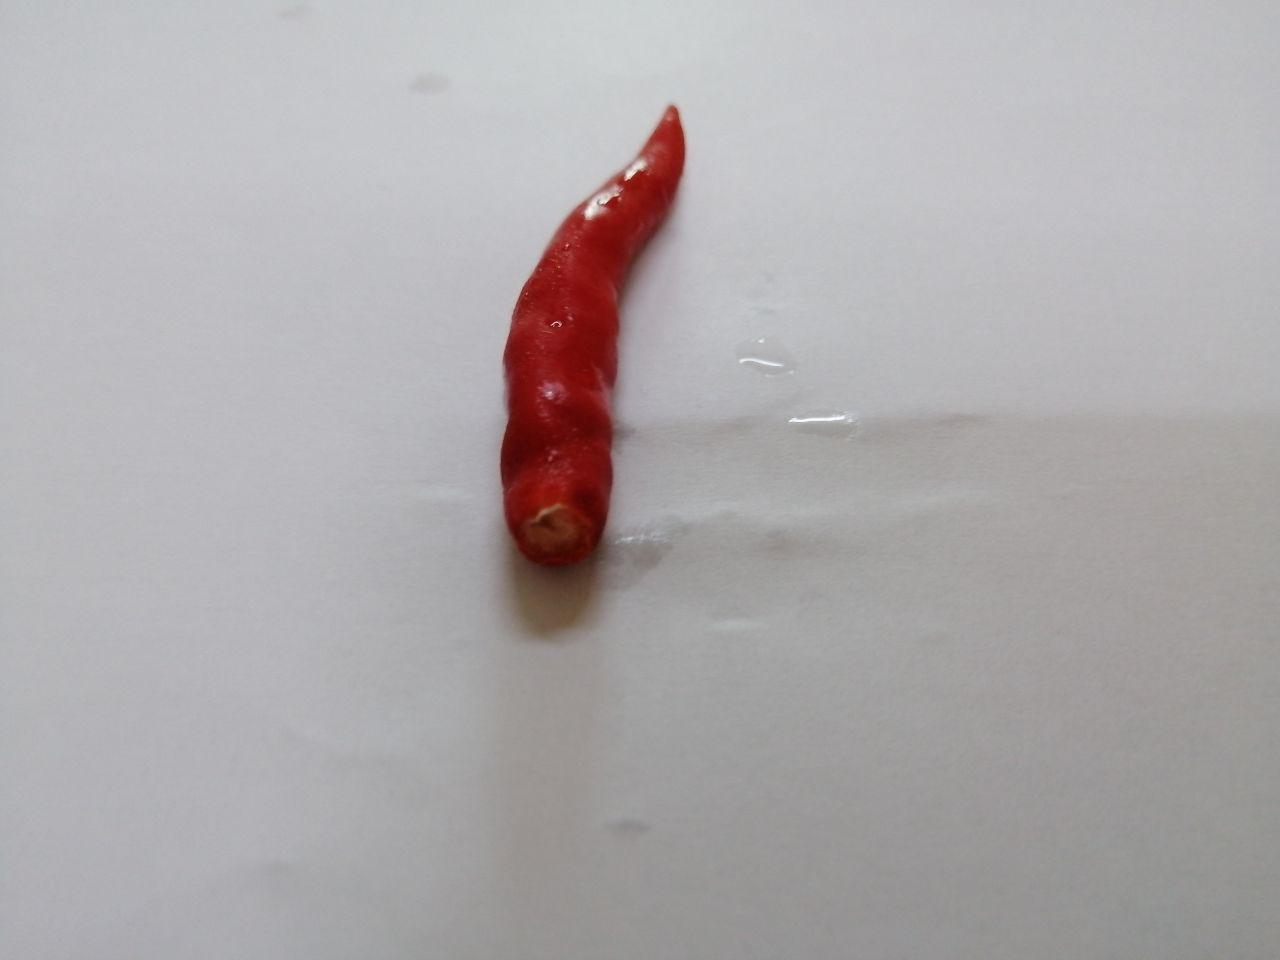lada merah: (472, 65, 728, 597)
